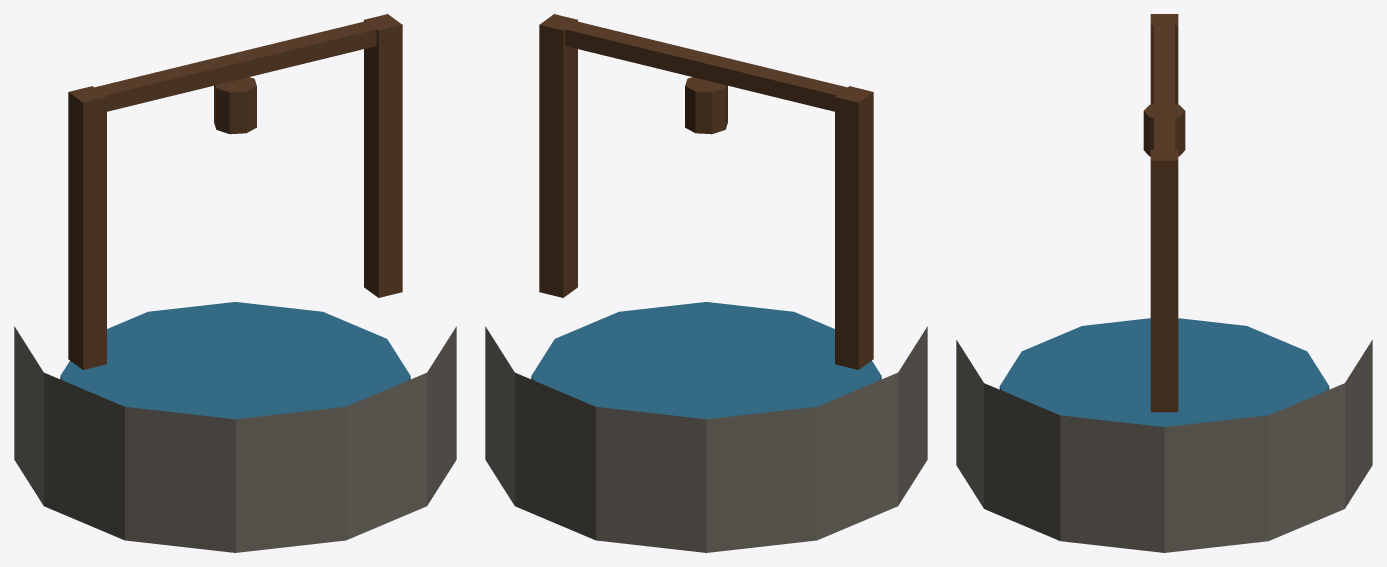
The model's file is prop_cs_well.glb.
3 views of the same model, side by side, from view 1: azimuth 30°, elevation 25°; view 2: azimuth 150°, elevation 25°; view 3: azimuth 270°, elevation 25° (orthographic). The views are drawn at different scales.
Parts seen in each view (by area): view 1: prop_cs_well; view 2: prop_cs_well; view 3: prop_cs_well.
Boxes of the visible parts, box(x1,y1,x2,y2) form: prop_cs_well: box(14, 14, 456, 552); prop_cs_well: box(485, 14, 927, 552); prop_cs_well: box(956, 14, 1372, 552).
Size of what is drawn, in the model's own units: 2.4 by 2.4 by 2.4.
